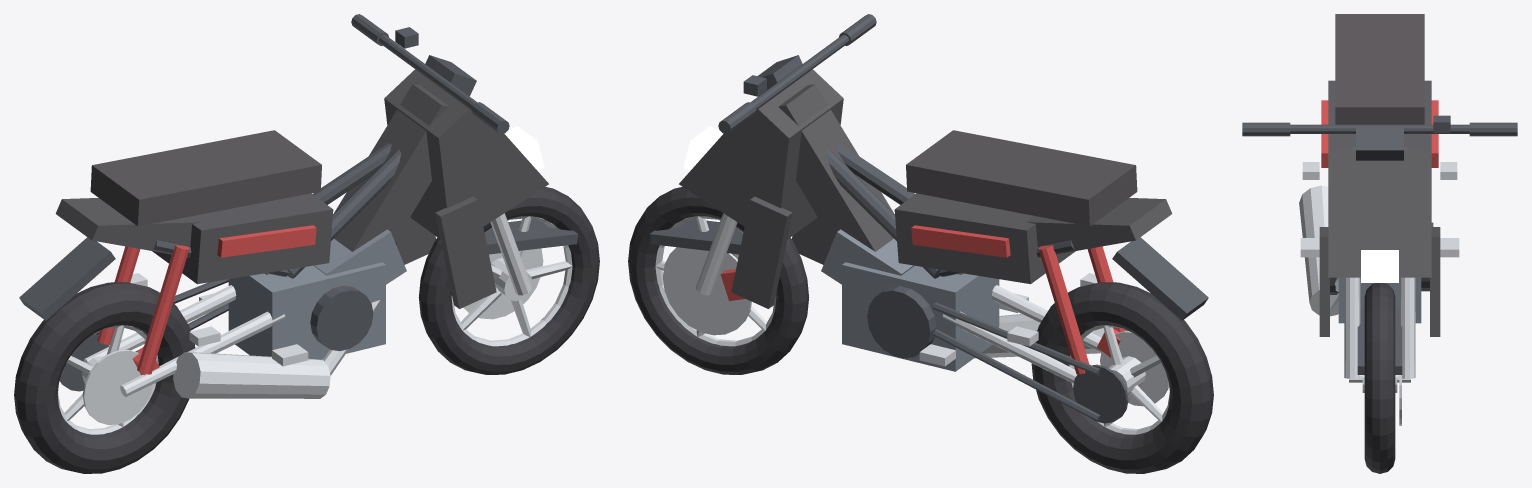
File: suzuki-satria-f150-fi-2018-2026.glb
3 renders of one model, left to right at view 1: azimuth 30°, elevation 25°; view 2: azimuth 150°, elevation 25°; view 3: azimuth 270°, elevation 25°, orthographic. The views are drawn at different scales.
Parts seen in each view (by area): view 1: Roda_Ban, Bodi_Utama, Bodi_Depan, Jok_Motor, Mesin_Blok, Knalpot, Velg_Roda, Spakbor, Piringan_Rem, Rangka, Master_Rem_Stang, Swing_Arm (+7 smaller); view 2: Roda_Ban, Bodi_Utama, Bodi_Depan, Jok_Motor, Mesin_Blok, Piringan_Rem, Spakbor, Rantai, Velg_Roda, Cover_Mesin, Rangka, Master_Rem_Stang (+7 smaller); view 3: Bodi_Depan, Jok_Motor, Roda_Ban, Master_Rem_Stang, Suspensi_Depan, Knalpot, Bodi_Utama, Footstep, Lampu_Depan, Mesin_Blok, Spakbor, Aksen_Bodi.
Boxes of the visible parts, x1,y1,x2,y2 form: Roda_Ban: [14, 186, 599, 473]; Bodi_Utama: [55, 84, 449, 284]; Bodi_Depan: [384, 69, 548, 308]; Jok_Motor: [90, 130, 321, 226]; Mesin_Blok: [228, 229, 406, 359]; Knalpot: [173, 300, 380, 398]; Velg_Roda: [57, 216, 572, 434]; Spakbor: [19, 219, 578, 320]; Piringan_Rem: [82, 248, 543, 424]; Rangka: [153, 143, 401, 278]; Master_Rem_Stang: [351, 14, 509, 133]; Swing_Arm: [83, 285, 285, 396]; Roda_Ban: [628, 186, 1213, 473]; Bodi_Utama: [778, 84, 1172, 284]; Bodi_Depan: [679, 69, 843, 308]; Jok_Motor: [906, 130, 1137, 226]; Mesin_Blok: [821, 229, 999, 371]; Piringan_Rem: [662, 247, 1169, 406]; Spakbor: [649, 219, 1208, 320]; Rantai: [933, 302, 1128, 423]; Velg_Roda: [655, 216, 1170, 434]; Cover_Mesin: [867, 286, 936, 358]; Rangka: [826, 143, 1074, 278]; Master_Rem_Stang: [718, 14, 876, 133]; Bodi_Depan: [1319, 150, 1440, 336]; Jok_Motor: [1335, 14, 1424, 124]; Roda_Ban: [1364, 283, 1395, 473]; Master_Rem_Stang: [1242, 115, 1517, 160]; Suspensi_Depan: [1344, 277, 1415, 382]; Knalpot: [1299, 185, 1338, 316]; Bodi_Utama: [1328, 80, 1431, 150]; Footstep: [1300, 162, 1459, 257]; Lampu_Depan: [1361, 250, 1398, 282]; Mesin_Blok: [1338, 277, 1421, 323]; Spakbor: [1357, 308, 1402, 374]; Aksen_Bodi: [1321, 100, 1438, 167].
Size of the model in its own units: 1.84 by 1.01 by 0.8.
